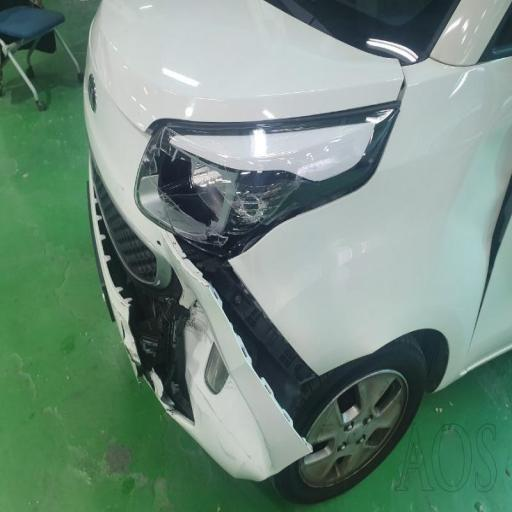broken: (143, 102, 350, 470)
